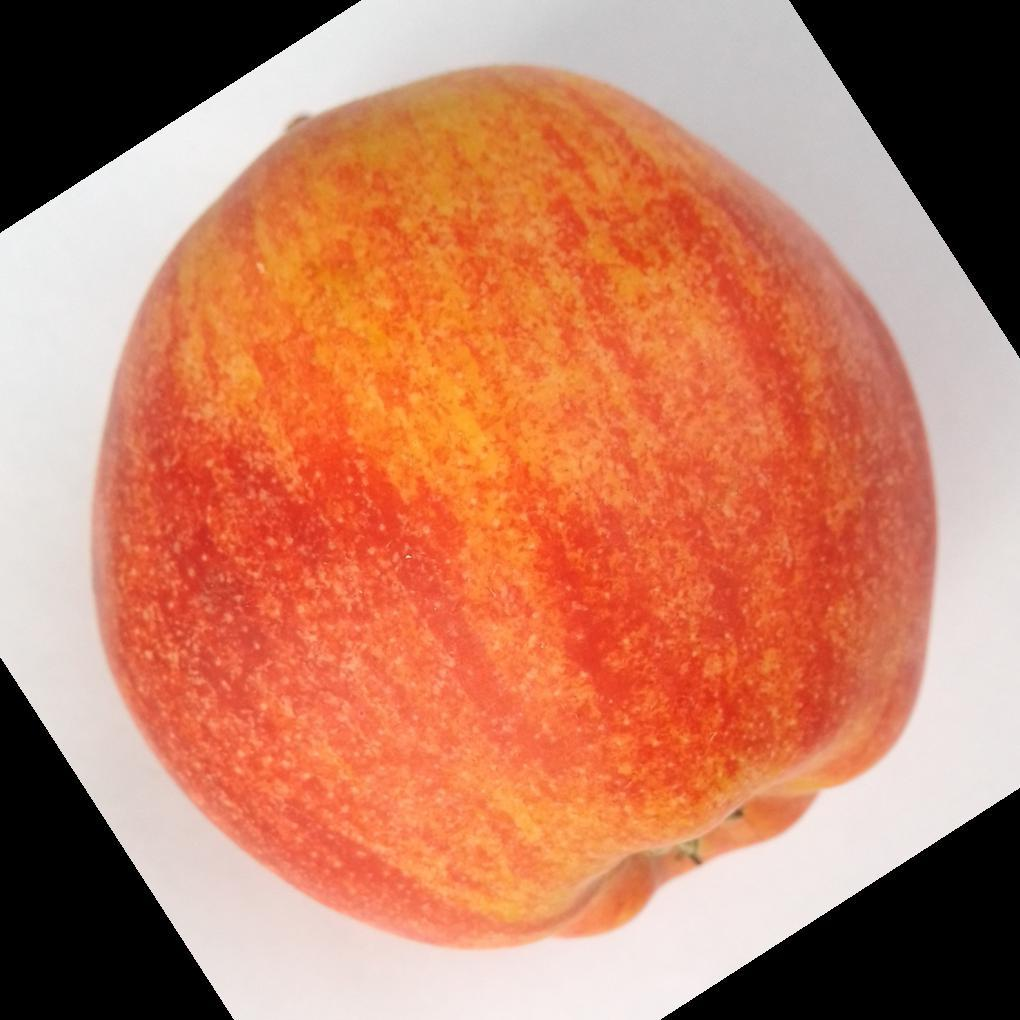FreshGuava: (87, 66, 939, 956)
